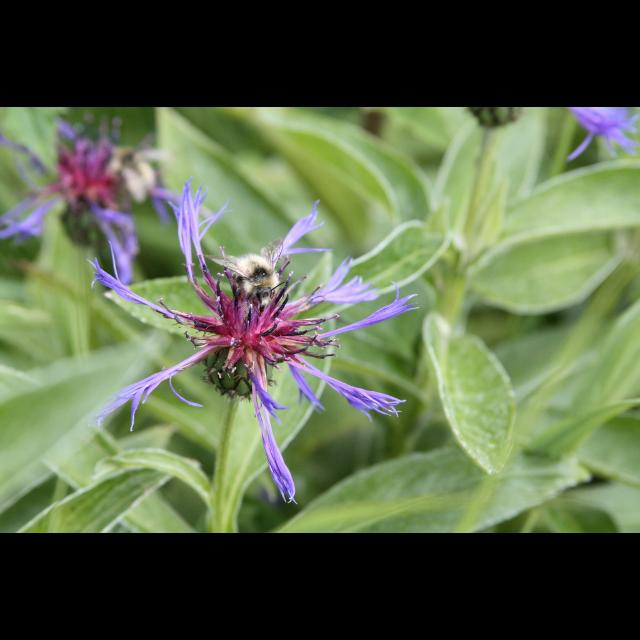Flower: (89, 175, 415, 492)
